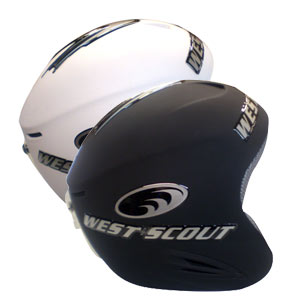helmet: (68, 97, 292, 289), (28, 27, 205, 153)
